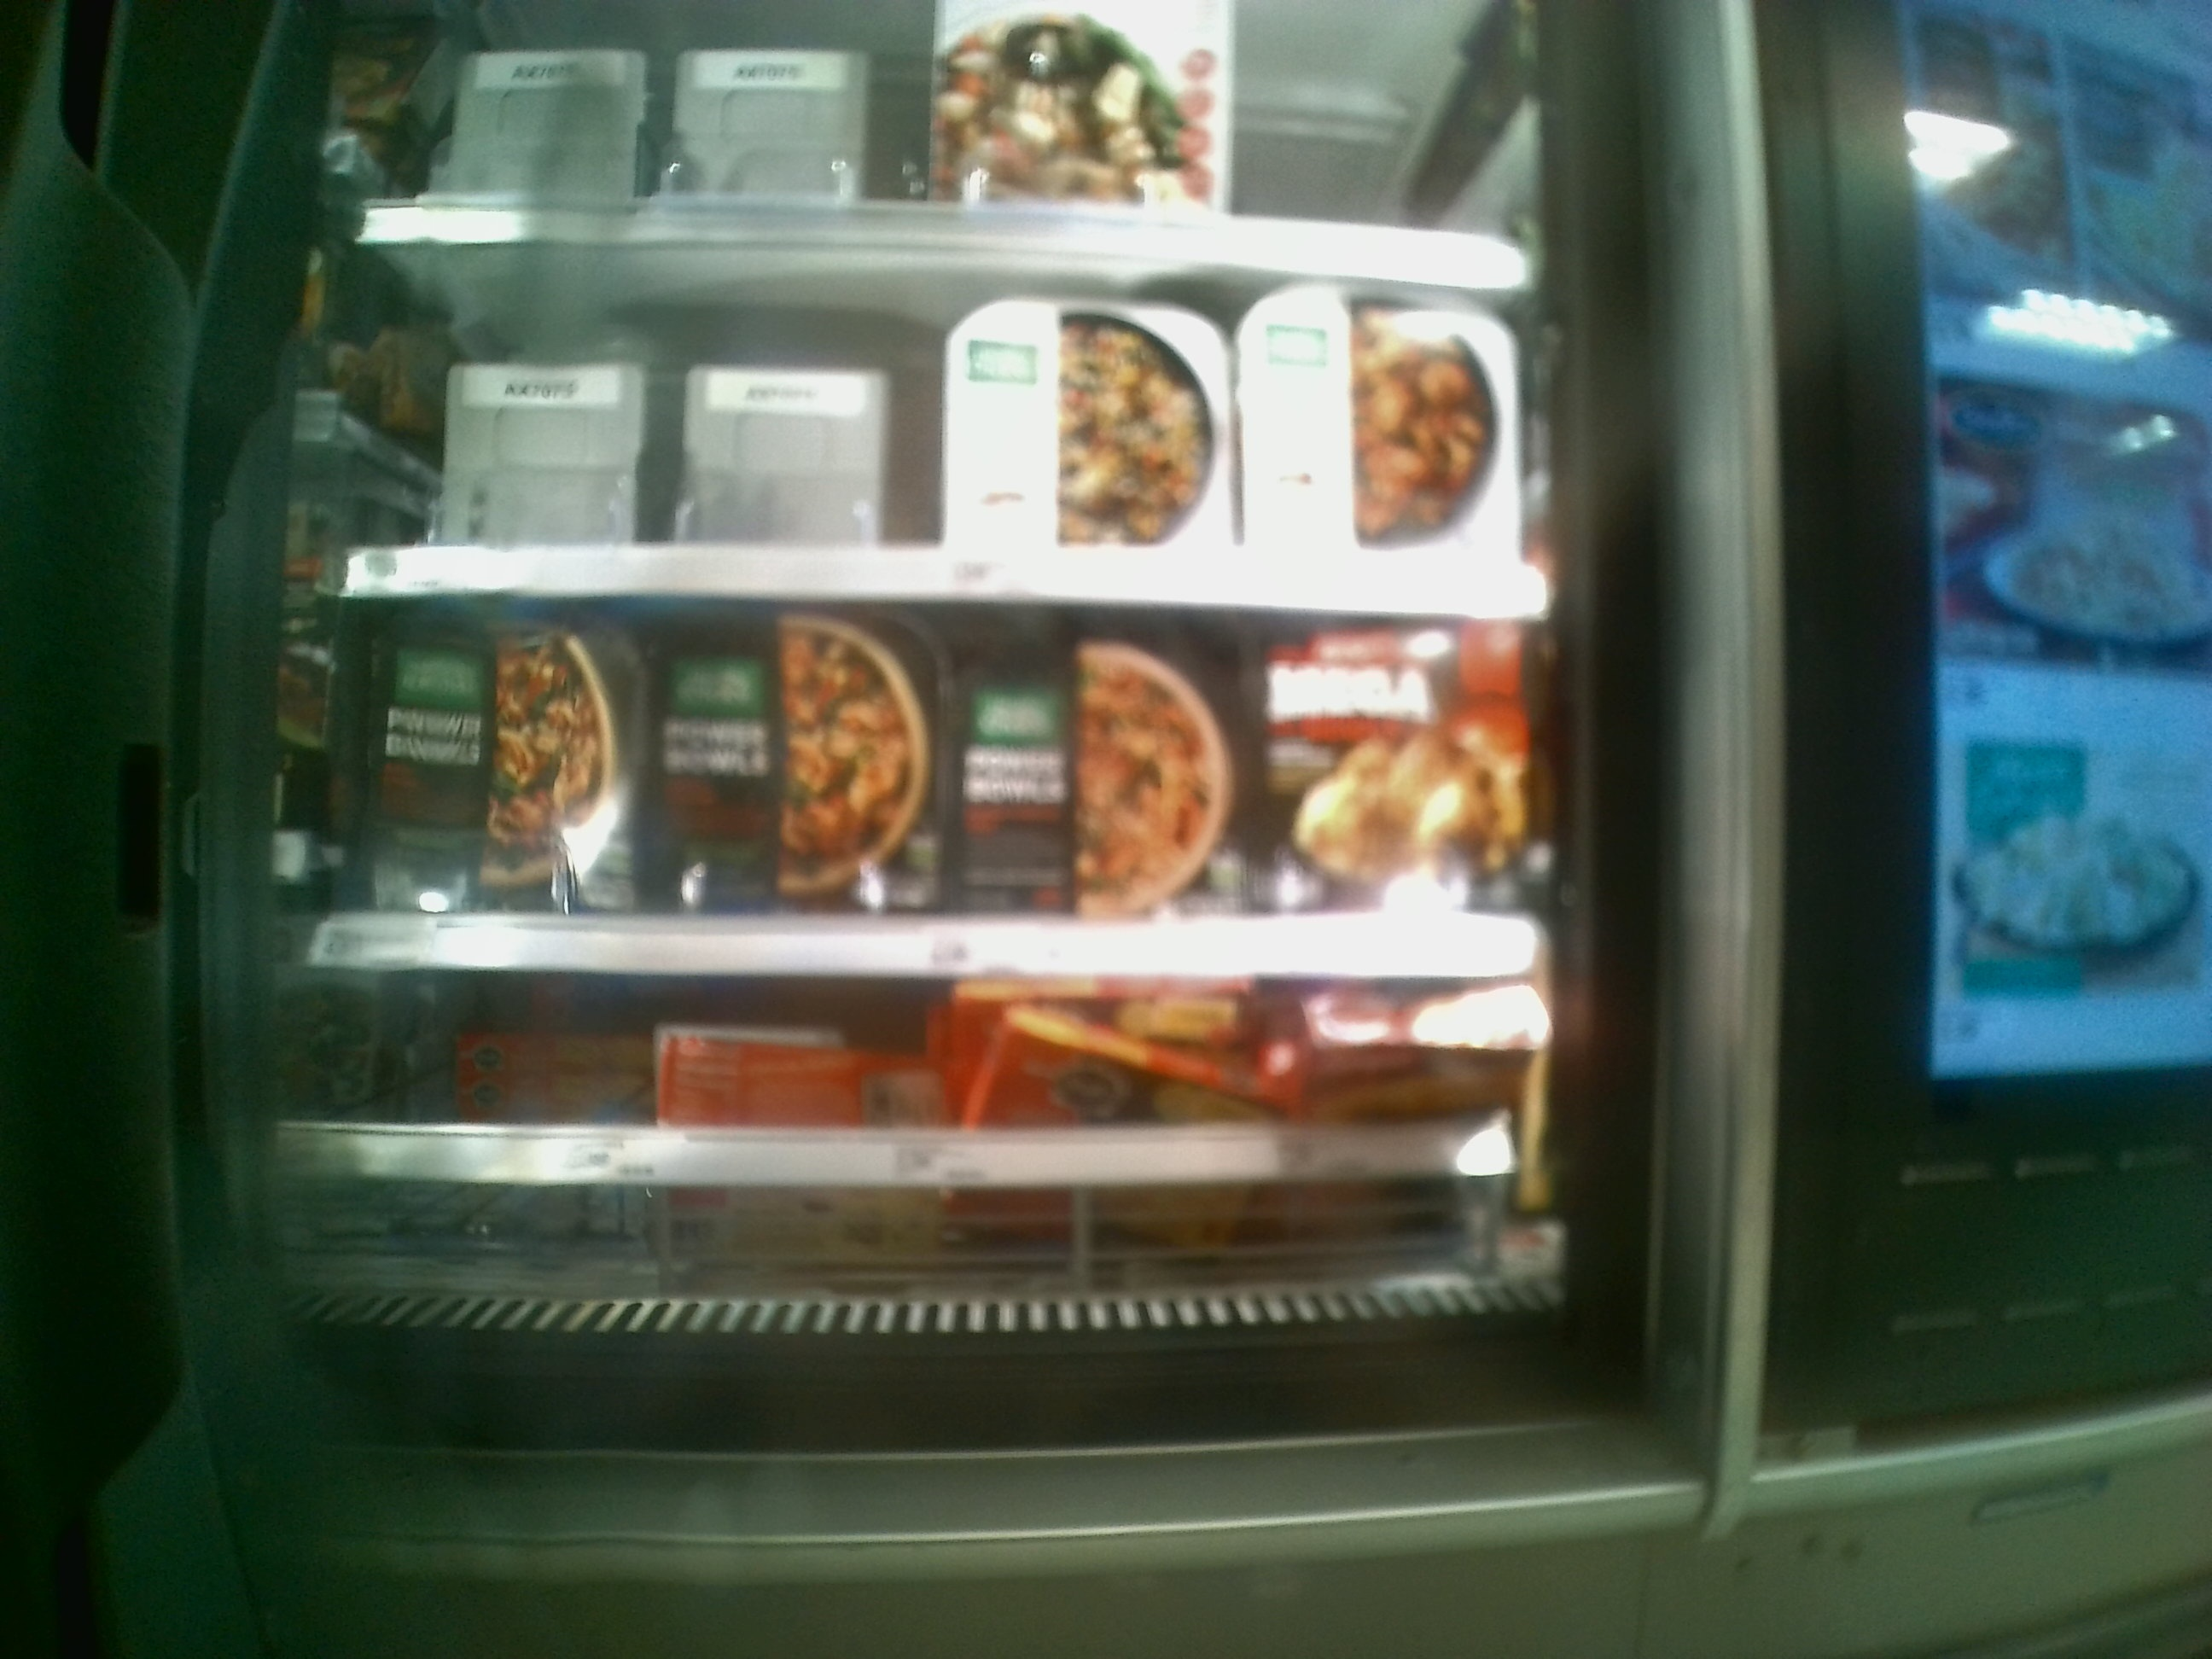shelf: (324, 598, 1554, 969), (354, 230, 1541, 612), (294, 974, 1566, 1321)
